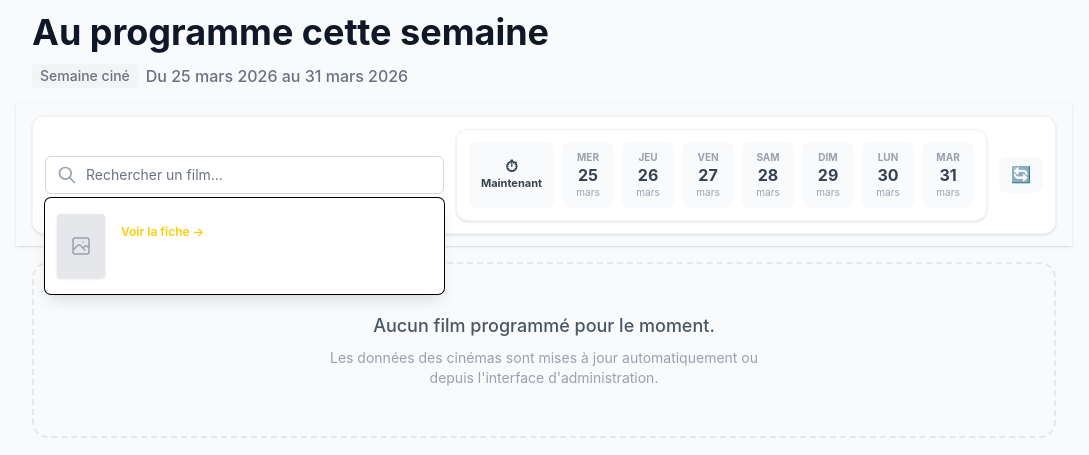
it: HomePage — bouton Maintenant › reset button clears the search input text (end-to-end)
The width and height of the screenshot is (1089, 455).
Step 1. Type "Film" into the field with test id "search-input" → x=244, y=175, box x1=45 y1=156 x2=444 y2=194
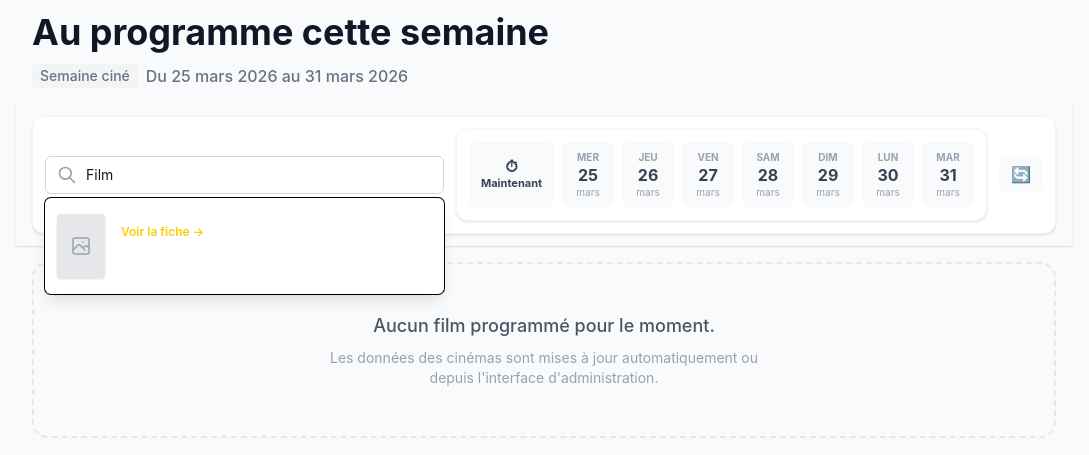
Step 2. Click the button with test id "filter-reset" → x=1021, y=175, box x1=999 y1=157 x2=1043 y2=193
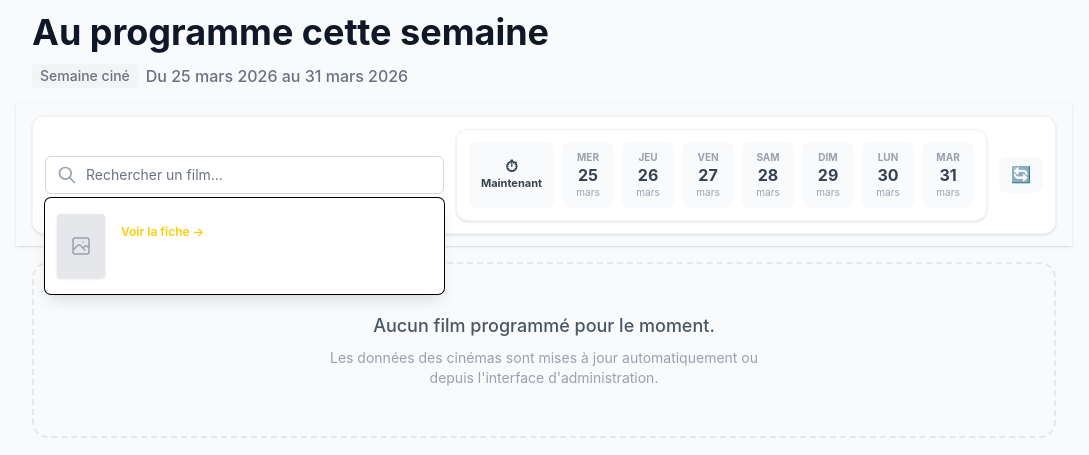
Now the field with test id "search-input" is empty, box x1=45 y1=156 x2=444 y2=194
